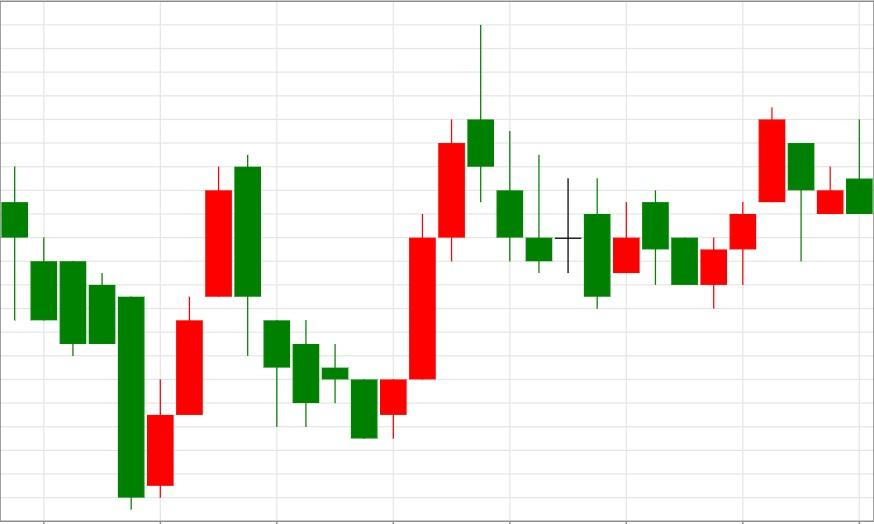bearish_engulfing_fall: (117, 155, 262, 510)
three_black_crows_fall: (350, 24, 553, 439)
three_white_soldiers_rise: (0, 166, 233, 510), (234, 119, 466, 439), (641, 107, 786, 308)
